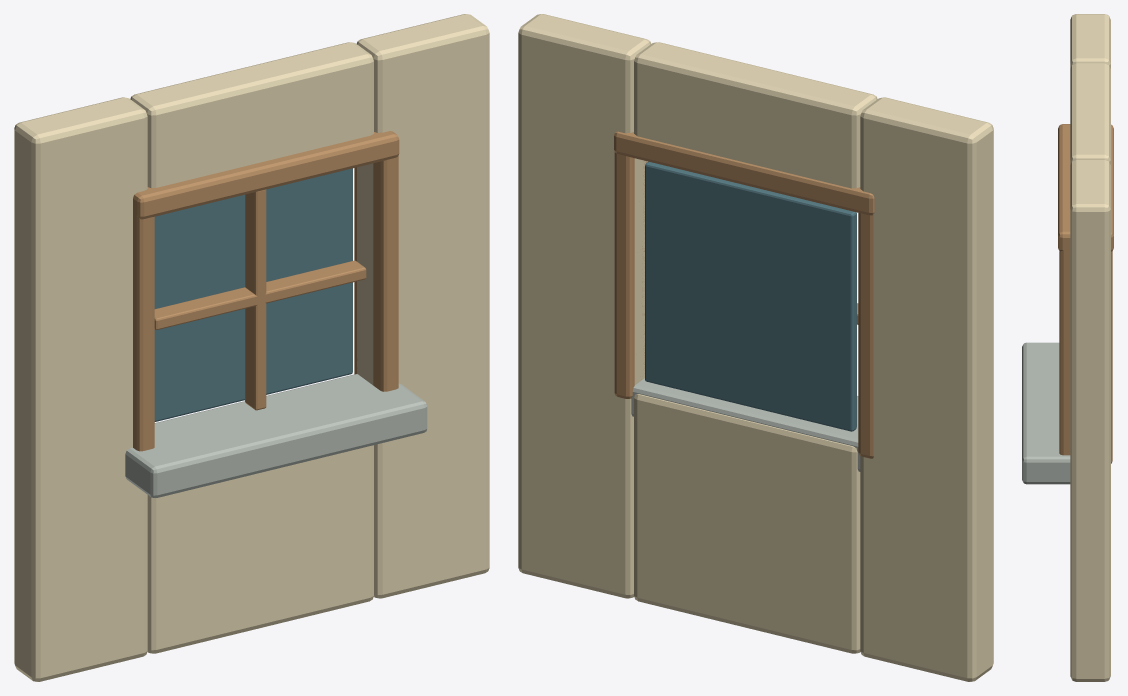
Rendered from wall_window_plaster_2m.glb.
3 renders of one model, left to right at view 1: azimuth 30°, elevation 25°; view 2: azimuth 150°, elevation 25°; view 3: azimuth 270°, elevation 25°, orthographic. The views are drawn at different scales.
Visible parts, largest first — view 1: wall_window_plaster_2m; view 2: wall_window_plaster_2m; view 3: wall_window_plaster_2m.
Part boxes in pixels (x1,y1,x2,y2): wall_window_plaster_2m: [14, 14, 489, 681]; wall_window_plaster_2m: [518, 14, 993, 681]; wall_window_plaster_2m: [1022, 14, 1113, 681].
Size of the model in its own units: 1.82 by 2.08 by 0.362.
